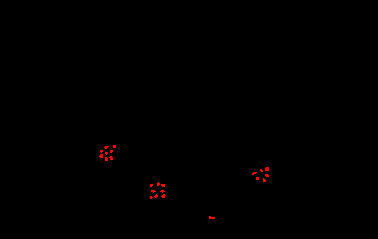Target: (161, 194, 166, 198), (209, 216, 215, 219), (99, 154, 103, 158), (109, 156, 113, 160), (265, 167, 269, 171), (154, 194, 158, 198), (104, 146, 109, 149), (252, 172, 257, 175), (151, 190, 156, 193), (160, 190, 165, 193), (105, 157, 108, 161), (265, 174, 269, 177), (263, 178, 266, 182), (157, 182, 160, 186), (161, 184, 165, 187), (113, 145, 116, 148), (100, 150, 103, 153), (110, 150, 113, 153), (105, 152, 108, 155), (260, 169, 263, 172), (256, 177, 259, 180), (150, 184, 153, 187), (150, 196, 153, 199)
